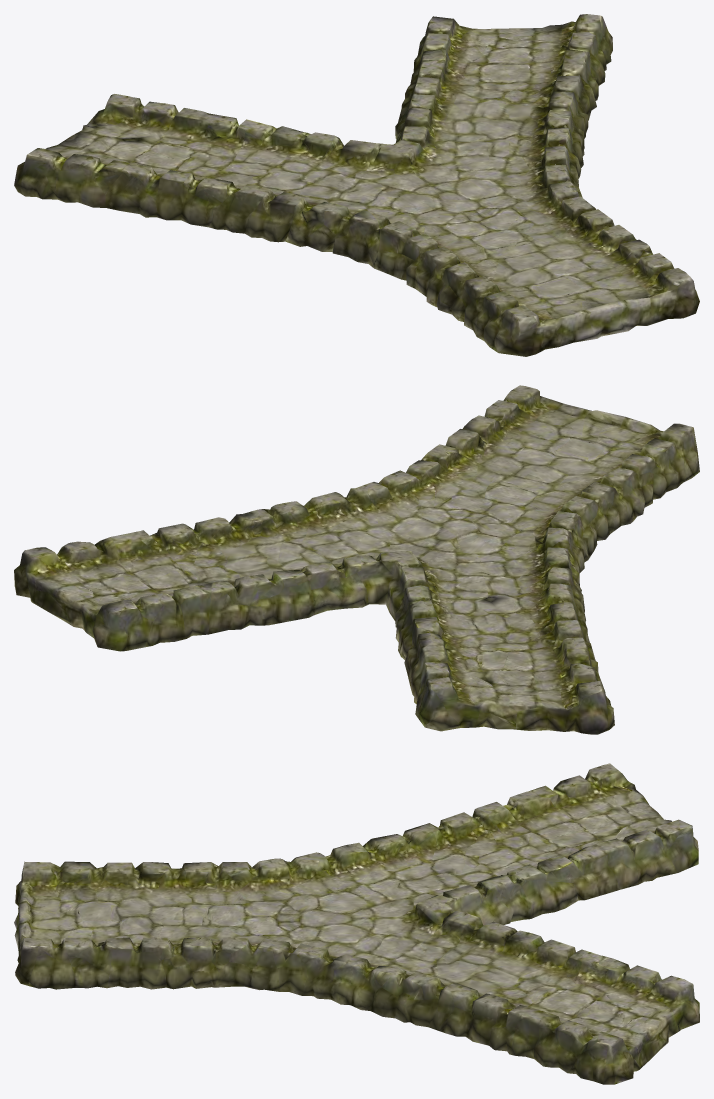
The model's file is road-fork.glb.
3 renders of one model, top to bottom at view 1: azimuth 30°, elevation 25°; view 2: azimuth 150°, elevation 25°; view 3: azimuth 270°, elevation 25°, orthographic.
Size of the model in its own units: 1.91 by 0.1115 by 1.9.
Materials: 1 (1 with a texture image).
